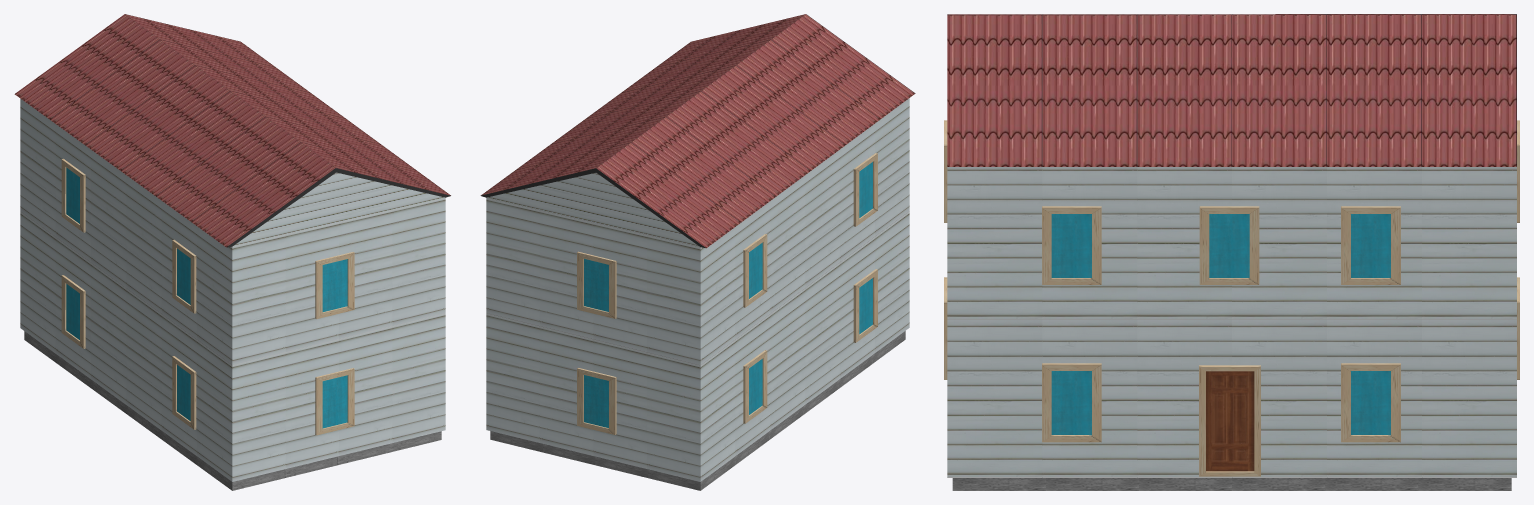
The model's file is Hus3.glb.
3 renders of one model, left to right at view 1: azimuth 30°, elevation 25°; view 2: azimuth 150°, elevation 25°; view 3: azimuth 270°, elevation 25°, orthographic. The views are drawn at different scales.
Parts seen in each view (by area): view 1: Hus3; view 2: Hus3; view 3: Hus3.
Part boxes in pixels (left/top/right/bottom): Hus3: left=14, top=14, right=450, bottom=490; Hus3: left=480, top=14, right=915, bottom=490; Hus3: left=944, top=14, right=1519, bottom=490.
Bounding box in the file's own units: 7.17 × 9.07 × 11.69.
1 material, 1 textured.
